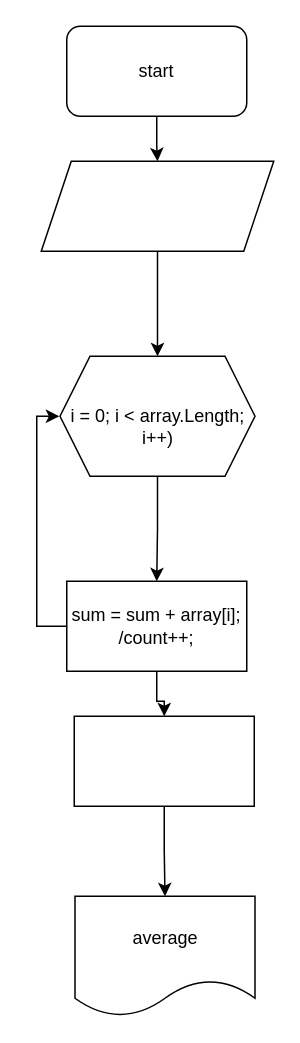
Some shapes in this 300 by 1043 pixel diagram are drawn without their labels. The centre of each missing label's shape, as x and y in pixels:
array= { 10, 20, 30 }; sum = 0; count = 0; average = 0;: [157,205]
average = sum / count;: [163,760]
